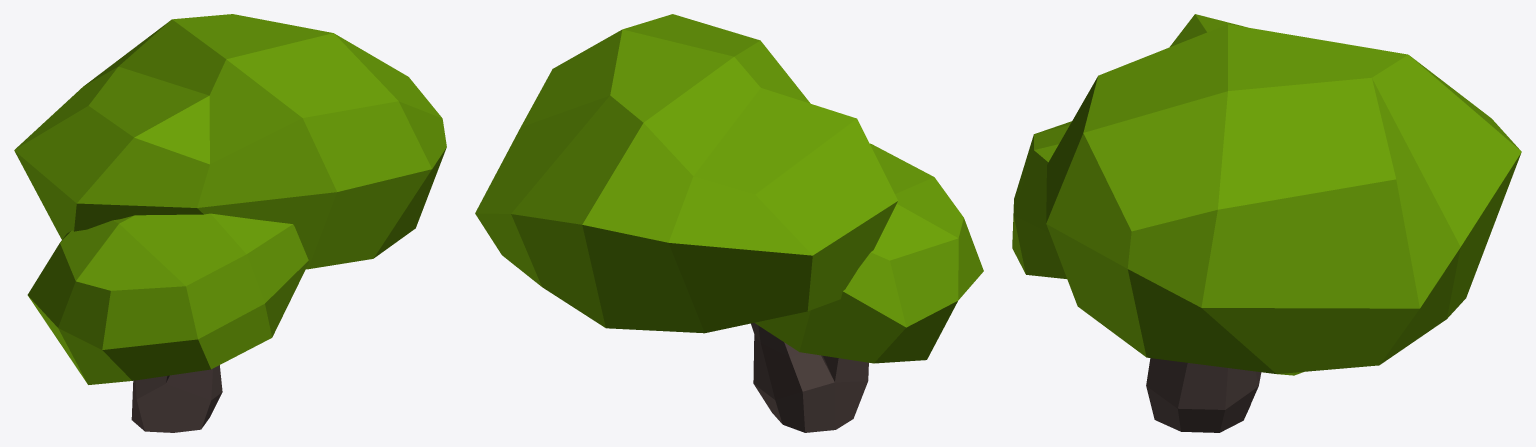
File: low_tree2.fbx
3 renders of one model, left to right at view 1: azimuth 30°, elevation 25°; view 2: azimuth 150°, elevation 25°; view 3: azimuth 270°, elevation 25°, orthographic. The views are drawn at different scales.
Visible parts, largest first — view 1: polySurface3, pCube12; view 2: polySurface3, pCube12; view 3: polySurface3, pCube12.
Boxes of the visible parts, bbox=[...] form: polySurface3: bbox=[14, 14, 446, 384]; pCube12: bbox=[131, 365, 222, 432]; polySurface3: bbox=[475, 14, 983, 363]; pCube12: bbox=[751, 323, 868, 432]; polySurface3: bbox=[1012, 14, 1521, 375]; pCube12: bbox=[1146, 358, 1261, 432].
Size of the model in its own units: 8.14 by 6.82 by 7.34.
